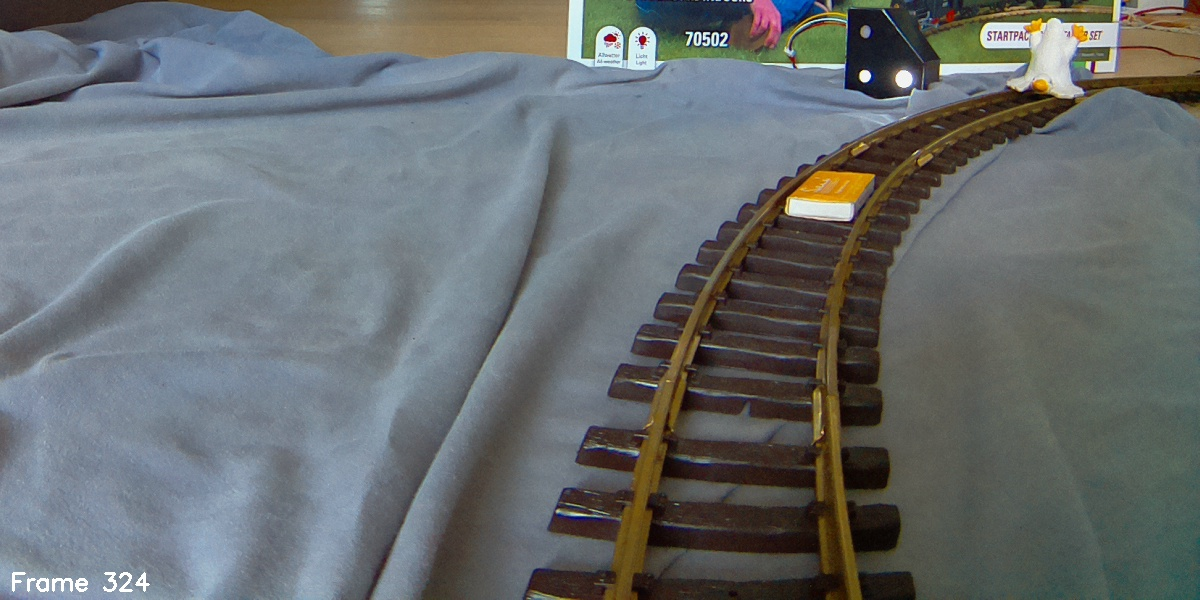Halt: (844, 6, 936, 97)
